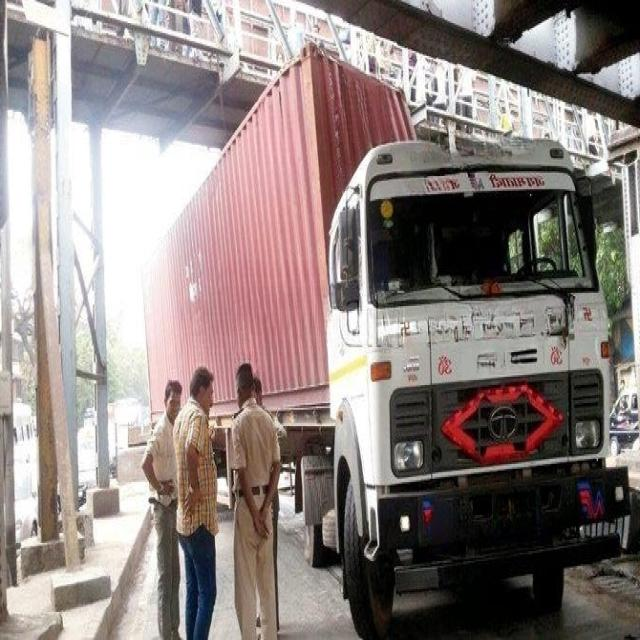truck: (145, 45, 629, 636)
